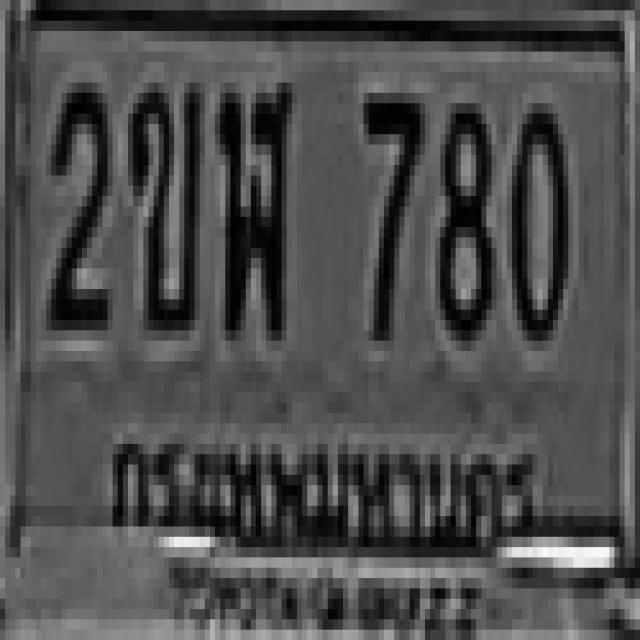0: (507, 93, 563, 330)
11KhorKhai: (128, 72, 200, 320)
2: (43, 72, 105, 320)
51LorChula: (215, 83, 292, 330)
7: (358, 83, 420, 330)
8: (436, 93, 486, 330)
Bangkok: (100, 412, 545, 575)
